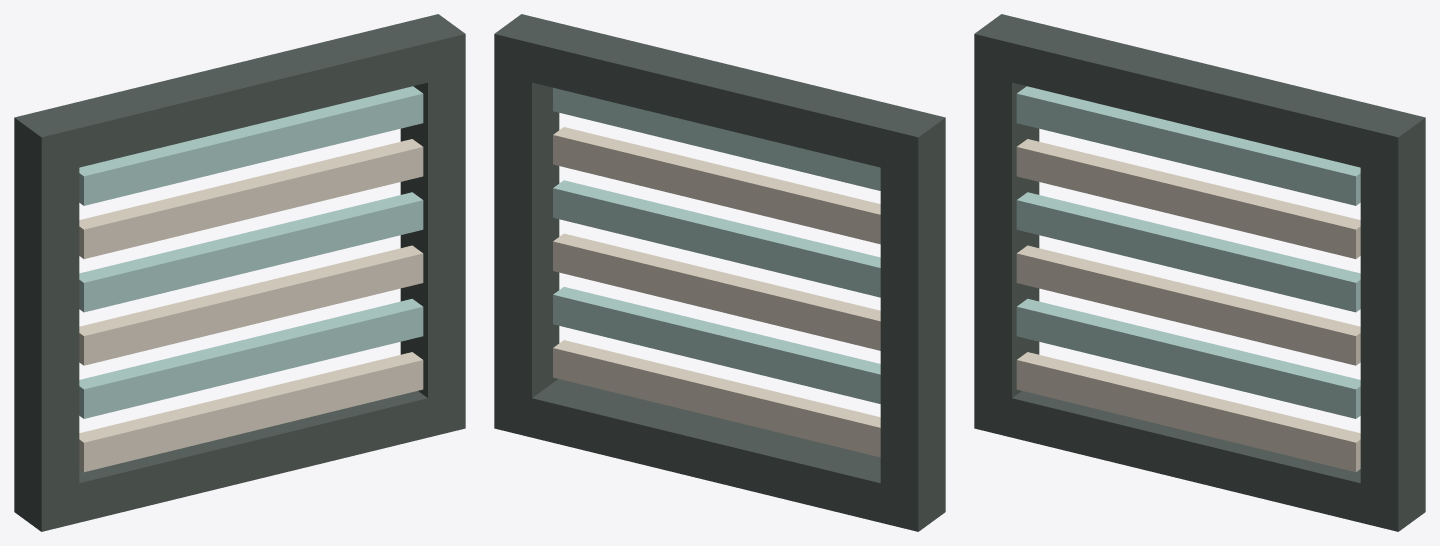
3 views of the same model, side by side, from view 1: azimuth 30°, elevation 25°; view 2: azimuth 150°, elevation 25°; view 3: azimuth 330°, elevation 25° (orthographic).
Parts seen in each view (by area): view 1: frame-top, frame-bottom, frame-left, frame-right, slat-2, slat-0, slat-3, slat-1, slat-4, slat-5; view 2: frame-top, frame-bottom, frame-left, frame-right, slat-2, slat-3, slat-4, slat-0, slat-1, slat-5; view 3: frame-top, frame-bottom, frame-right, frame-left, slat-2, slat-0, slat-3, slat-1, slat-4, slat-5.
Boxes of the visible parts, x1,y1,x2,y2 form: frame-top: (14, 14, 465, 176); frame-bottom: (14, 389, 465, 531); frame-left: (14, 157, 79, 492); frame-right: (400, 73, 465, 397); slat-2: (79, 245, 423, 365); slat-0: (79, 352, 423, 472); slat-3: (79, 192, 423, 312); slat-1: (79, 298, 423, 418); slat-4: (79, 139, 423, 258); slat-5: (79, 86, 423, 205); frame-top: (494, 14, 945, 176); frame-bottom: (494, 379, 945, 531); frame-left: (880, 157, 945, 492); frame-right: (494, 73, 559, 397); slat-2: (553, 233, 880, 350); slat-3: (553, 180, 880, 297); slat-4: (553, 127, 880, 244); slat-0: (553, 340, 880, 457); slat-1: (553, 287, 880, 403); slat-5: (553, 87, 880, 190); frame-top: (974, 14, 1425, 176); frame-bottom: (974, 389, 1425, 531); frame-right: (1360, 157, 1425, 492); frame-left: (974, 73, 1039, 397); slat-2: (1016, 245, 1360, 365); slat-0: (1016, 352, 1360, 472); slat-3: (1016, 192, 1360, 312); slat-1: (1016, 298, 1360, 418); slat-4: (1016, 139, 1360, 258); slat-5: (1016, 86, 1360, 205).
Size of the model in its own units: 0.9 by 0.8 by 0.1.
